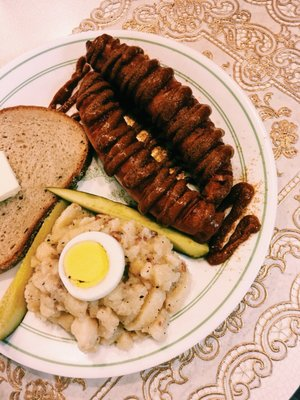soup: (0, 105, 93, 274)
